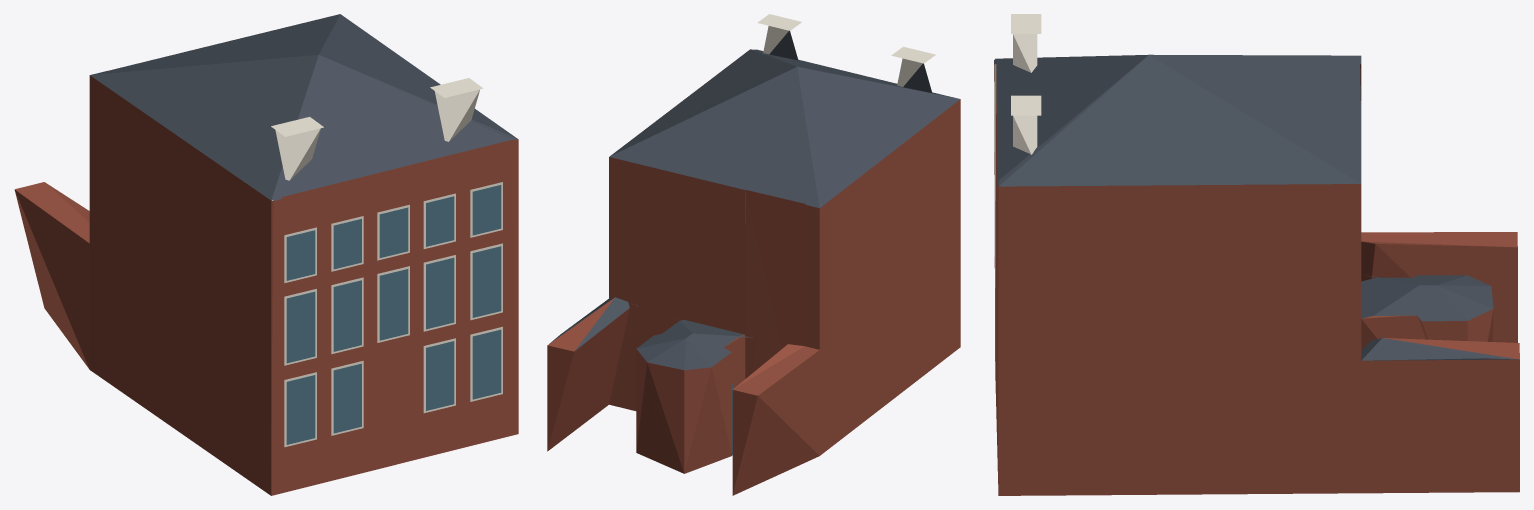
Rendered from willet-holthuysen.lod2.glb.
The picture shows the model from 3 angles, left to right: view 1: azimuth 30°, elevation 25°; view 2: azimuth 150°, elevation 25°; view 3: azimuth 270°, elevation 25°; orthographic projection. The views are drawn at different scales.
Visible parts, largest first — view 1: lod2; view 2: lod2; view 3: lod2.
Boxes of the visible parts, <box> form: lod2: <box>14,14,518,495</box>; lod2: <box>547,14,960,495</box>; lod2: <box>994,14,1519,495</box>.
Bounding box in the file's own units: 15.31 × 20.4 × 26.13.
